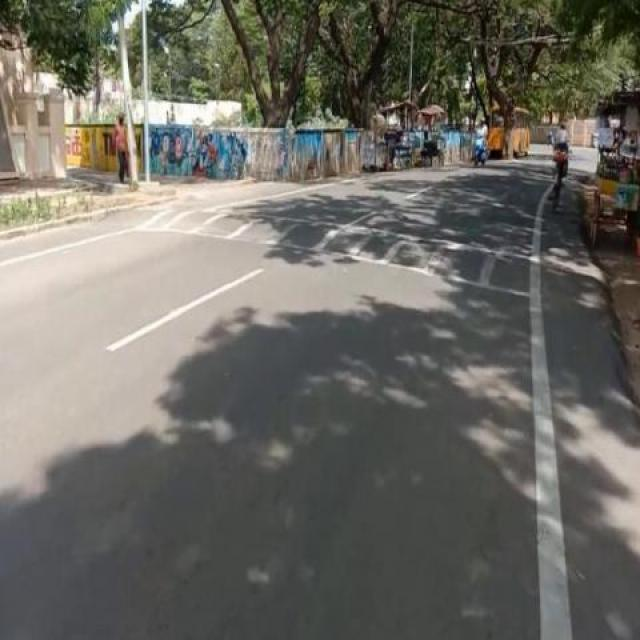Speed Bump: (100, 206, 610, 306)
